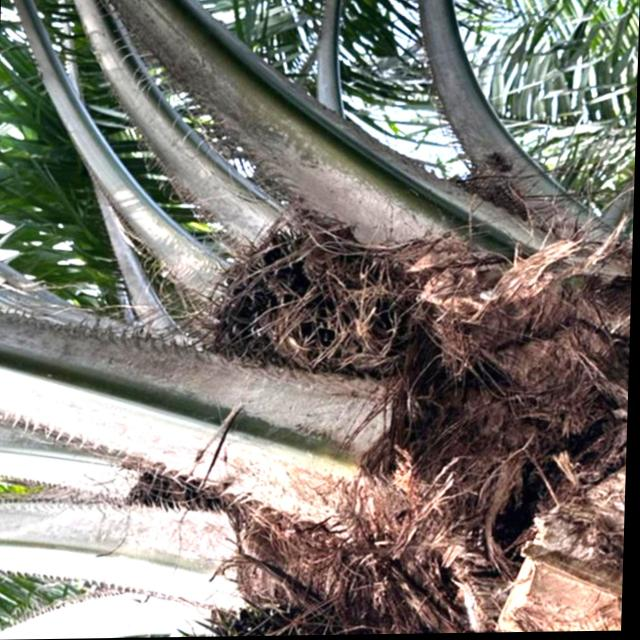unripe: (196, 200, 447, 410)
